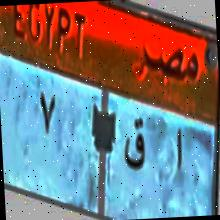7: (29, 90, 62, 140)
alif: (164, 120, 186, 181)
qaaf: (121, 114, 150, 184)
